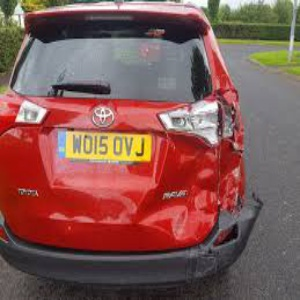bumper: (189, 187, 269, 285)
